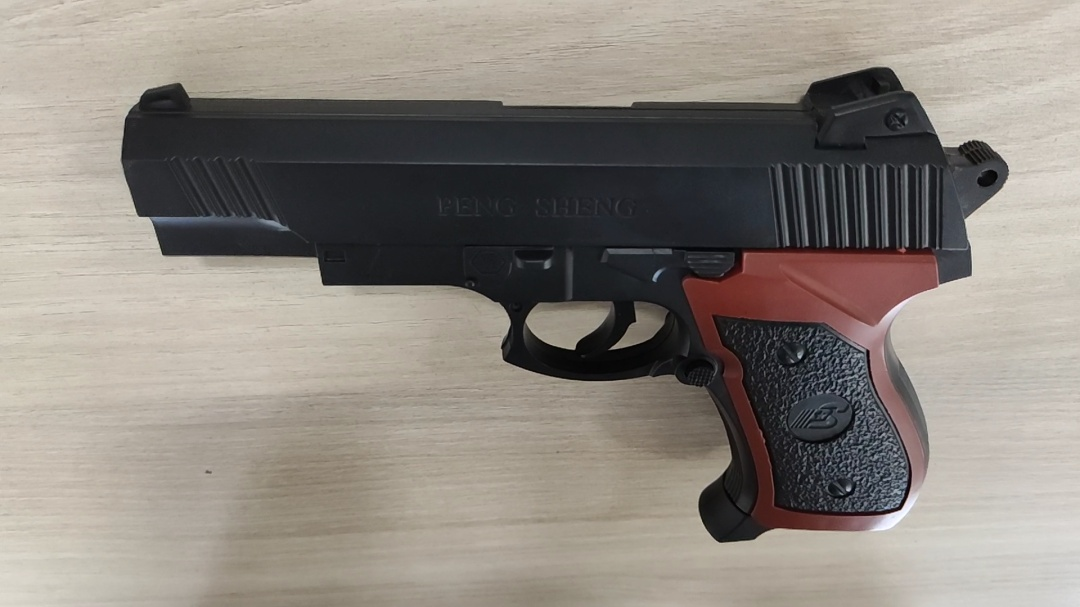gun: (144, 204, 506, 504)
